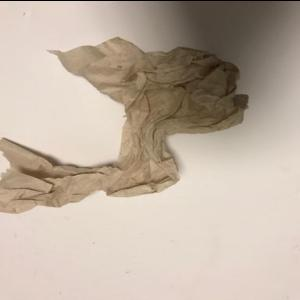Trash: (2, 37, 252, 215)
